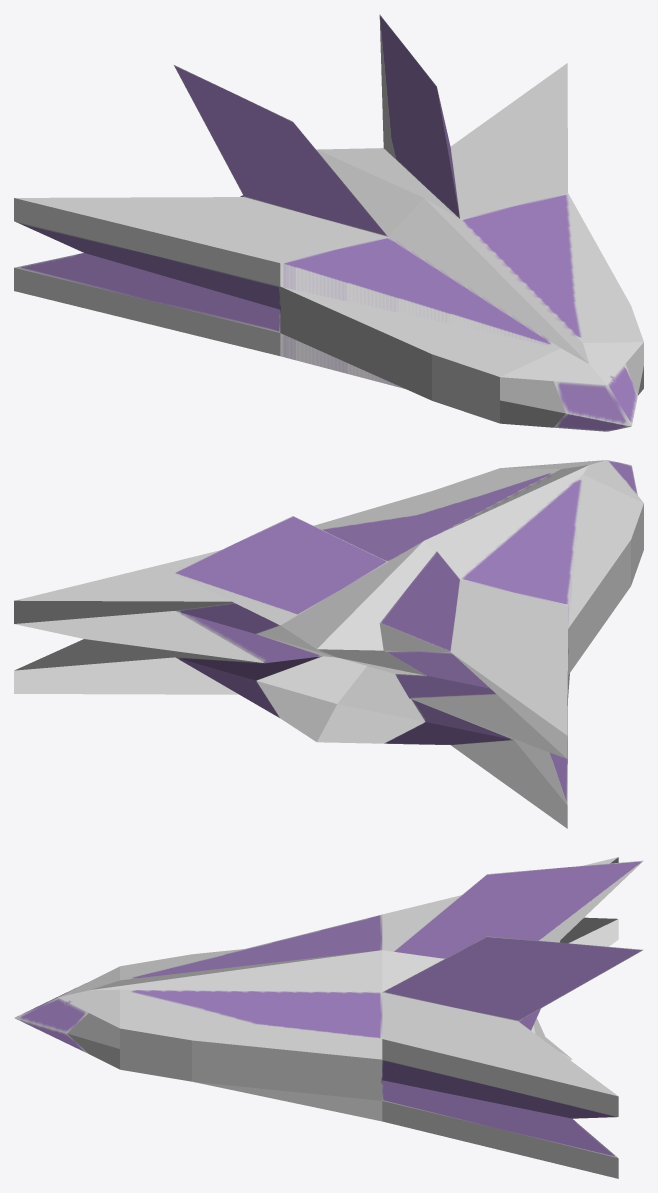
File: plot.obj
The picture shows the model from 3 angles, top to bottom: view 1: azimuth 30°, elevation 25°; view 2: azimuth 150°, elevation 25°; view 3: azimuth 270°, elevation 25°; orthographic projection. The views are drawn at different scales.
Visible parts, largest first — view 1: Cube; view 2: Cube; view 3: Cube.
Boxes of the visible parts, x1=… form: Cube: x1=14, y1=14, x2=643, y2=431; Cube: x1=14, y1=460, x2=643, y2=828; Cube: x1=14, y1=857, x2=643, y2=1178.
Bounding box in the file's own units: 2.37 × 0.8336 × 2.64.
1 material, 1 textured.
